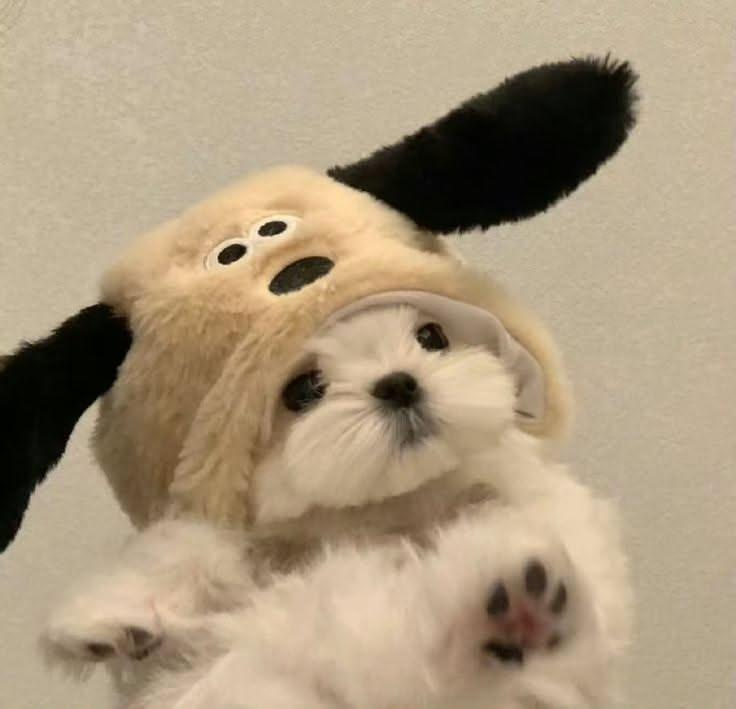puppy-dog: (19, 294, 655, 709)
